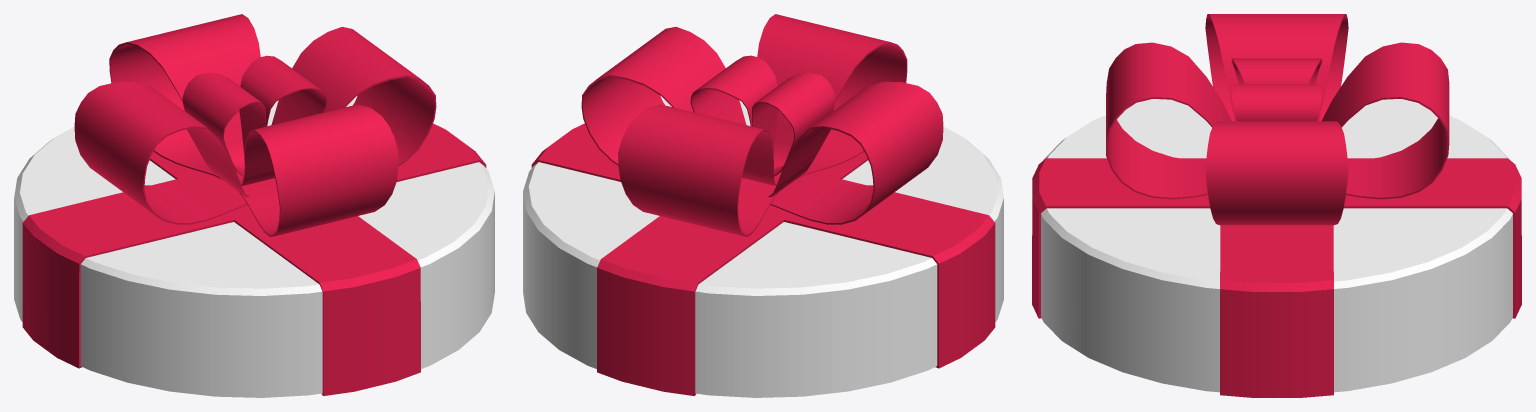
The model's file is Present5_2.fbx.
3 renders of one model, left to right at view 1: azimuth 30°, elevation 25°; view 2: azimuth 150°, elevation 25°; view 3: azimuth 270°, elevation 25°, orthographic.
Parts seen in each view (by area): view 1: Present5_2; view 2: Present5_2; view 3: Present5_2.
Boxes of the visible parts, x1,y1,x2,y2 form: Present5_2: (14,14,494,397); Present5_2: (523,14,1003,397); Present5_2: (1032,14,1521,397).
Bounding box in the file's own units: 0.3156 × 0.1598 × 0.3156.
